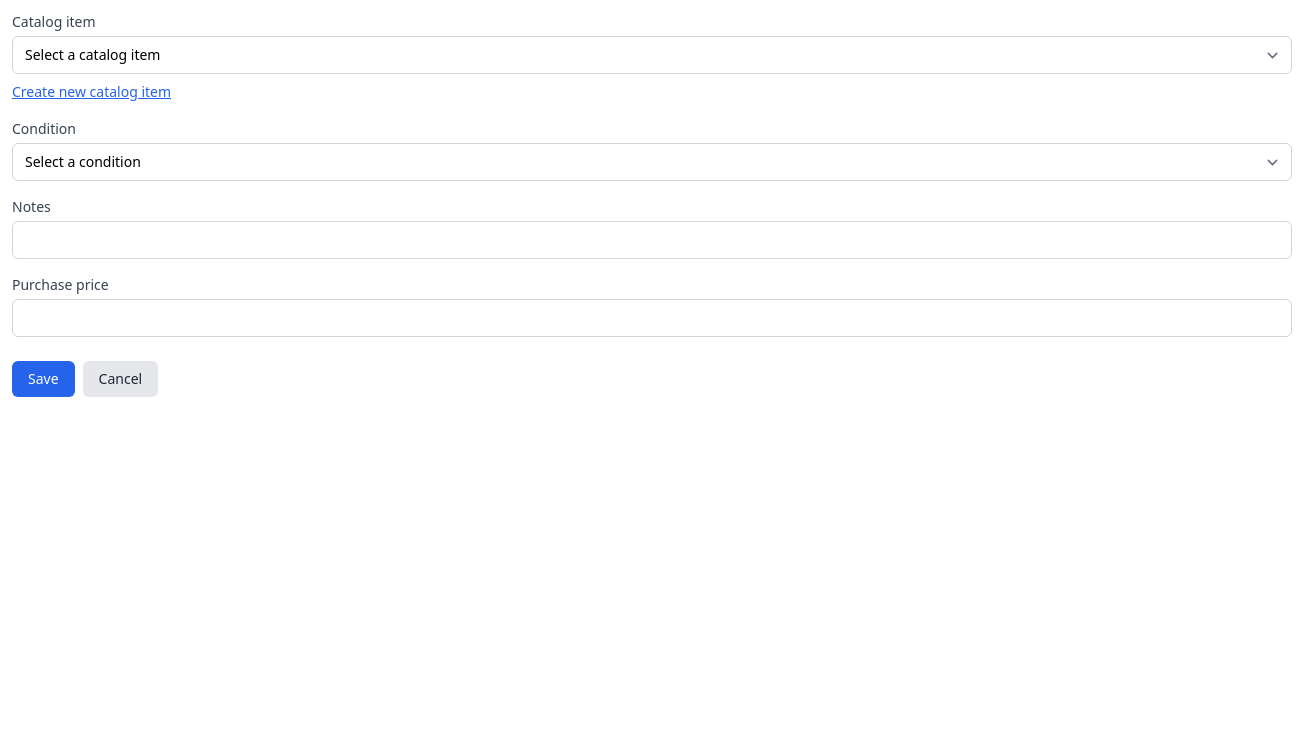
Test: ItemForm › shows the inline catalog item form when the button is clicked
Click the button "Create new catalog item".
click(92, 92)  # box [12, 82, 171, 102]
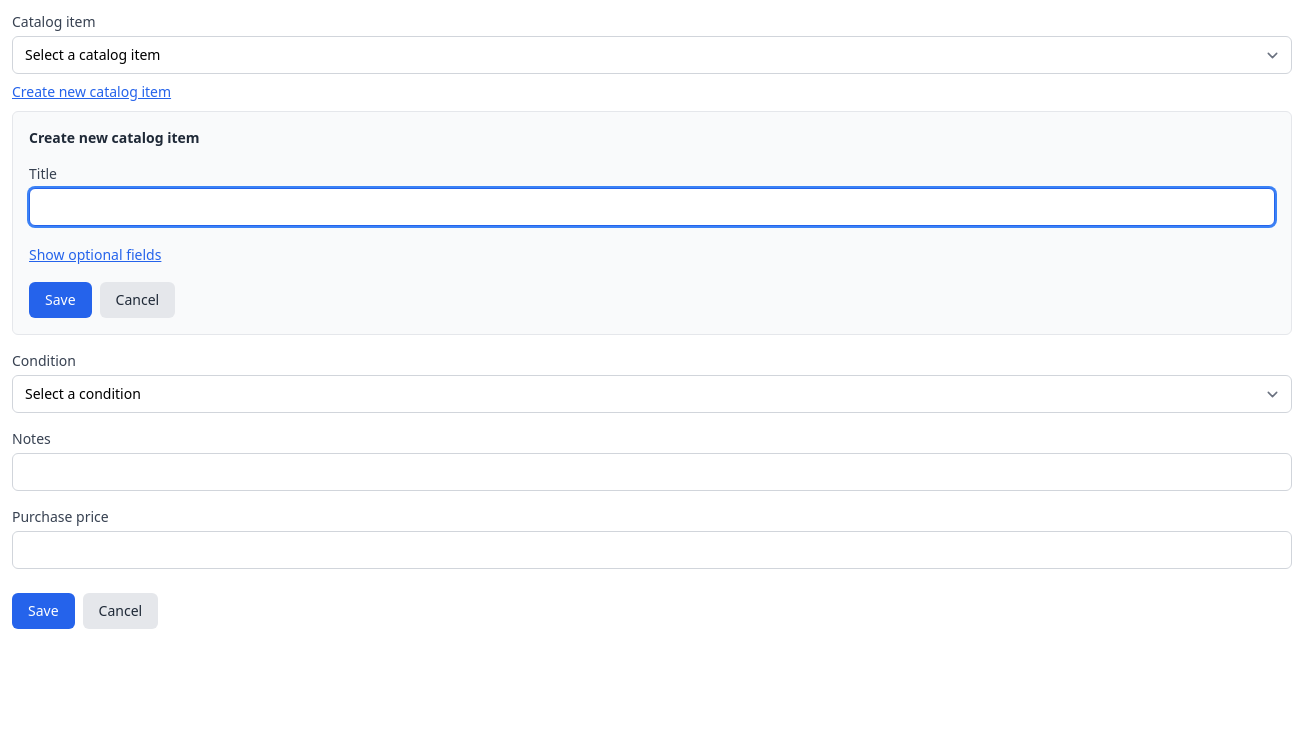
Result: the element "Create new catalog item" is shown at [12, 111, 1292, 335]
Result: the field labelled "Title" is shown at [29, 188, 1275, 226]
